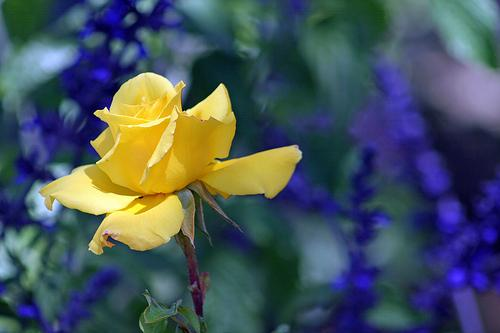Rose: (37, 76, 305, 257)
